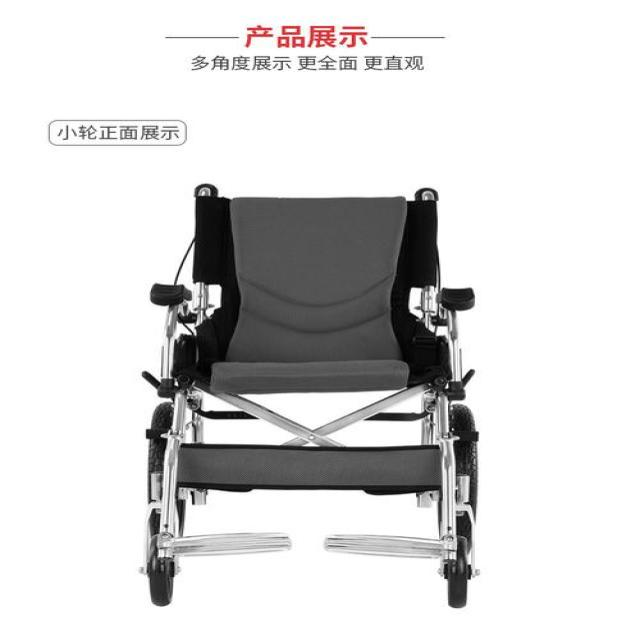wheelchairs: (121, 174, 502, 614)
